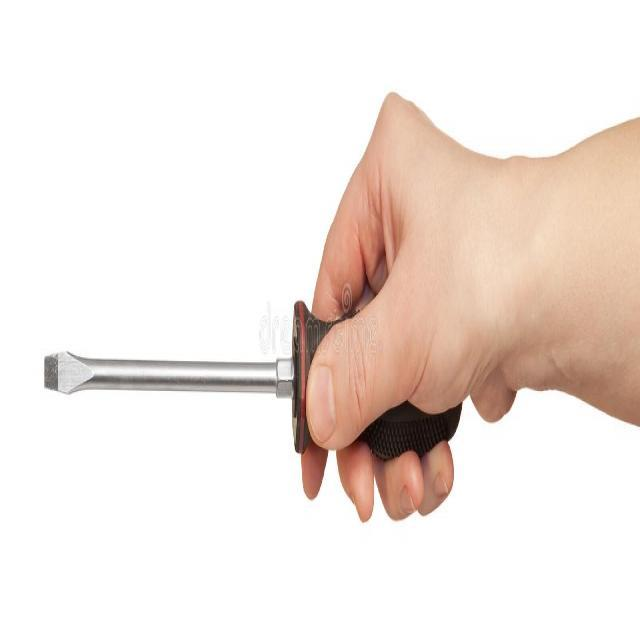screwdriver: (41, 294, 463, 463)
